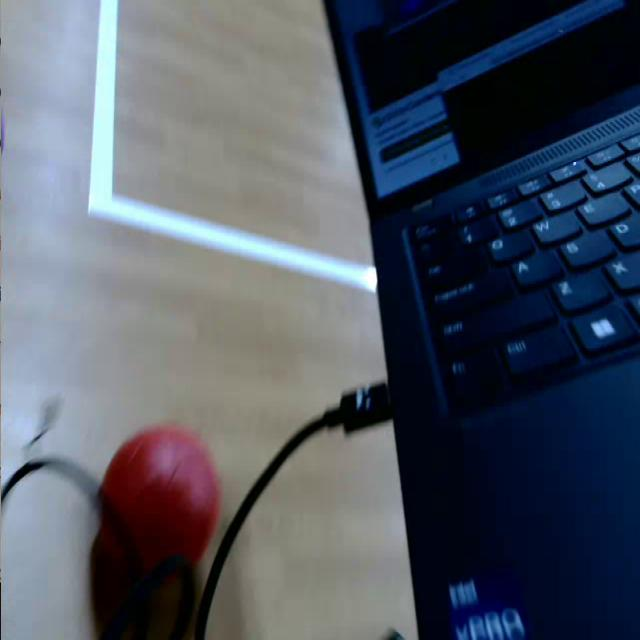red_ball: (97, 426, 221, 569)
